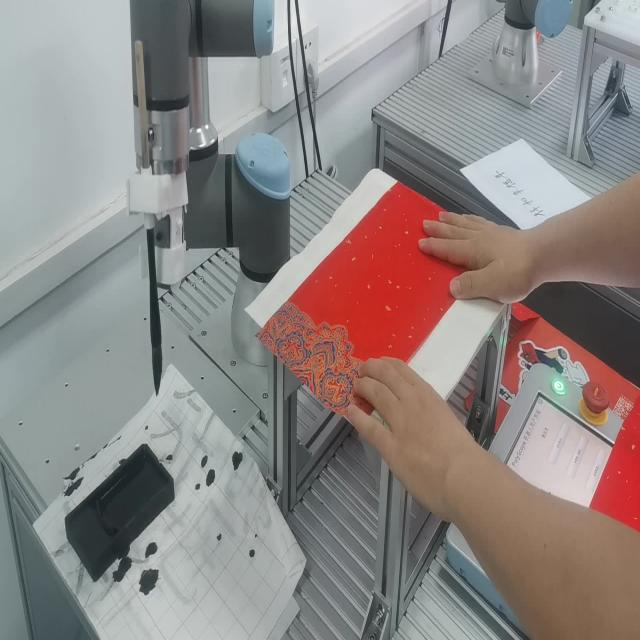head: (150, 345, 164, 397)
inkstone: (64, 442, 176, 585)
writing-brush: (130, 37, 168, 399)
